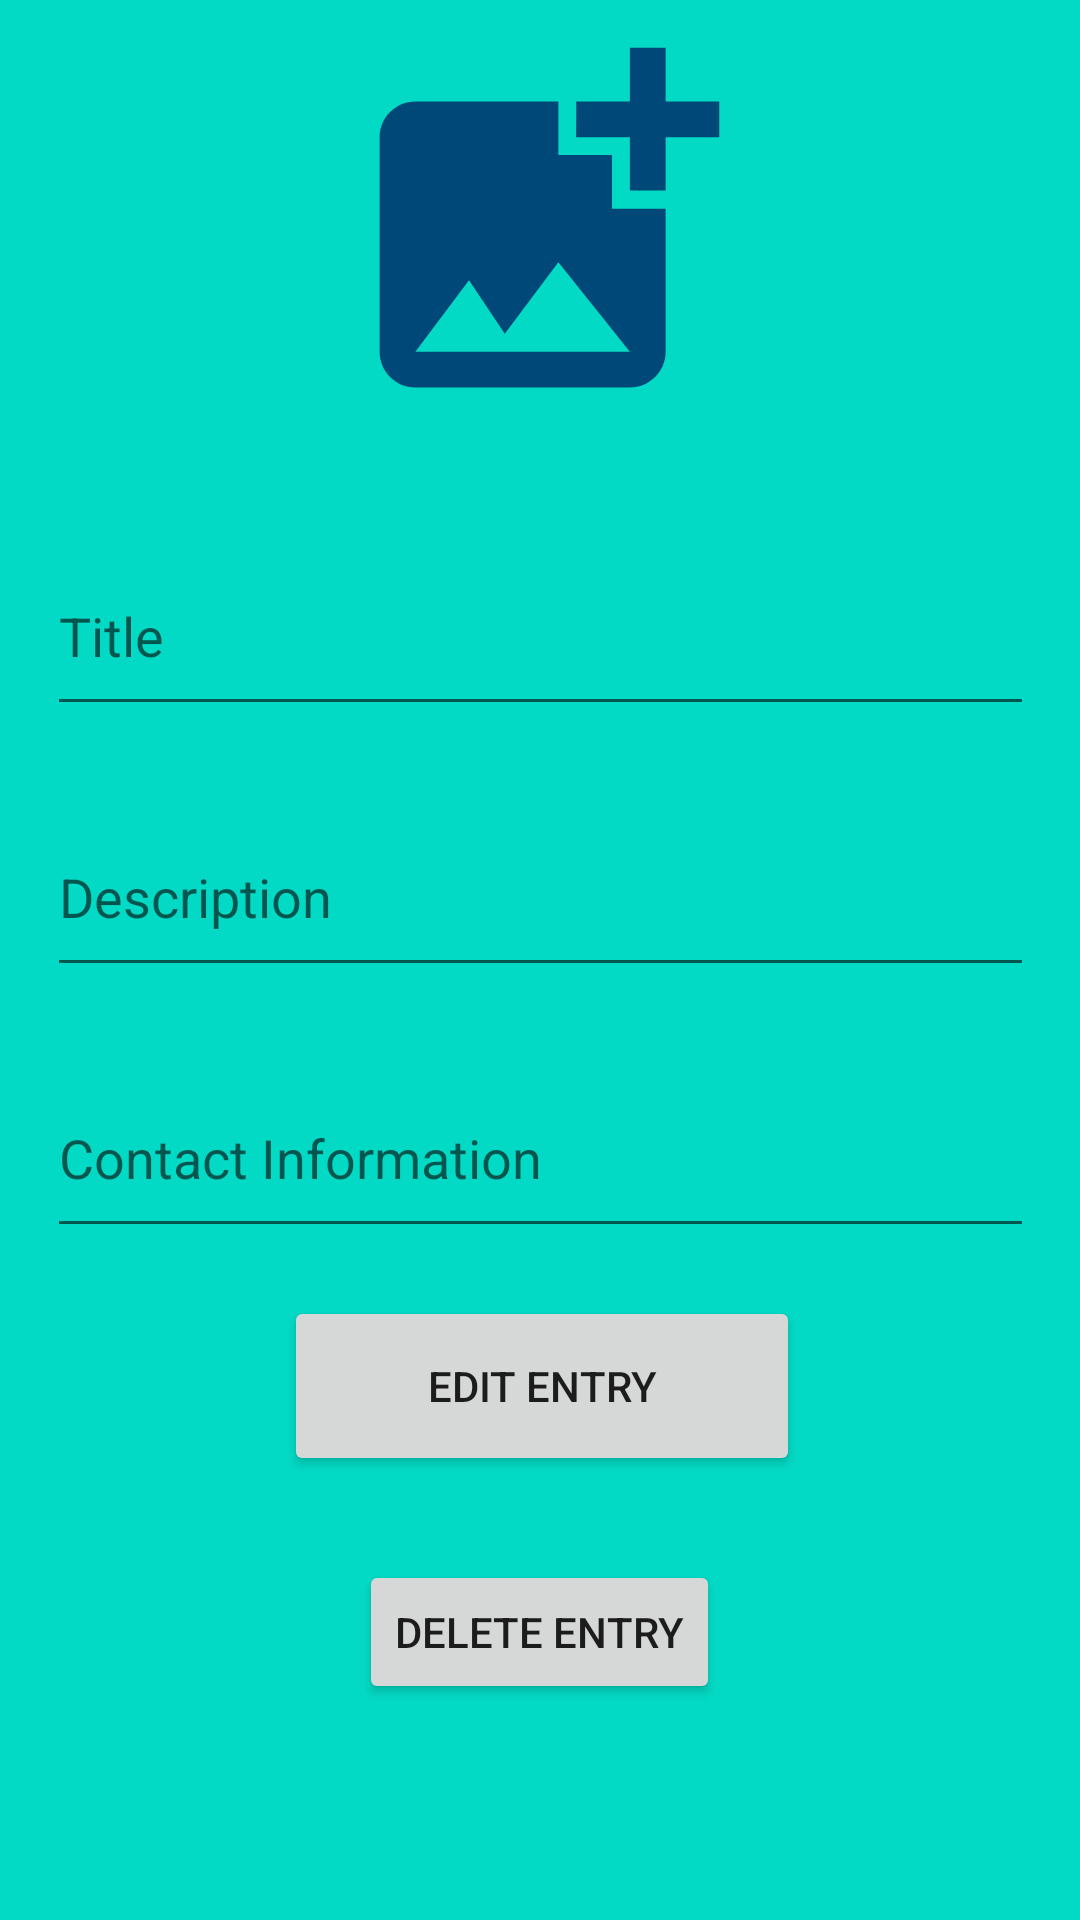

Icons on this 1080 x 1920 Android screen, each with its box as BBox(x1, y1, x2, y2):
addphoto: BBox(379, 47, 720, 388)
